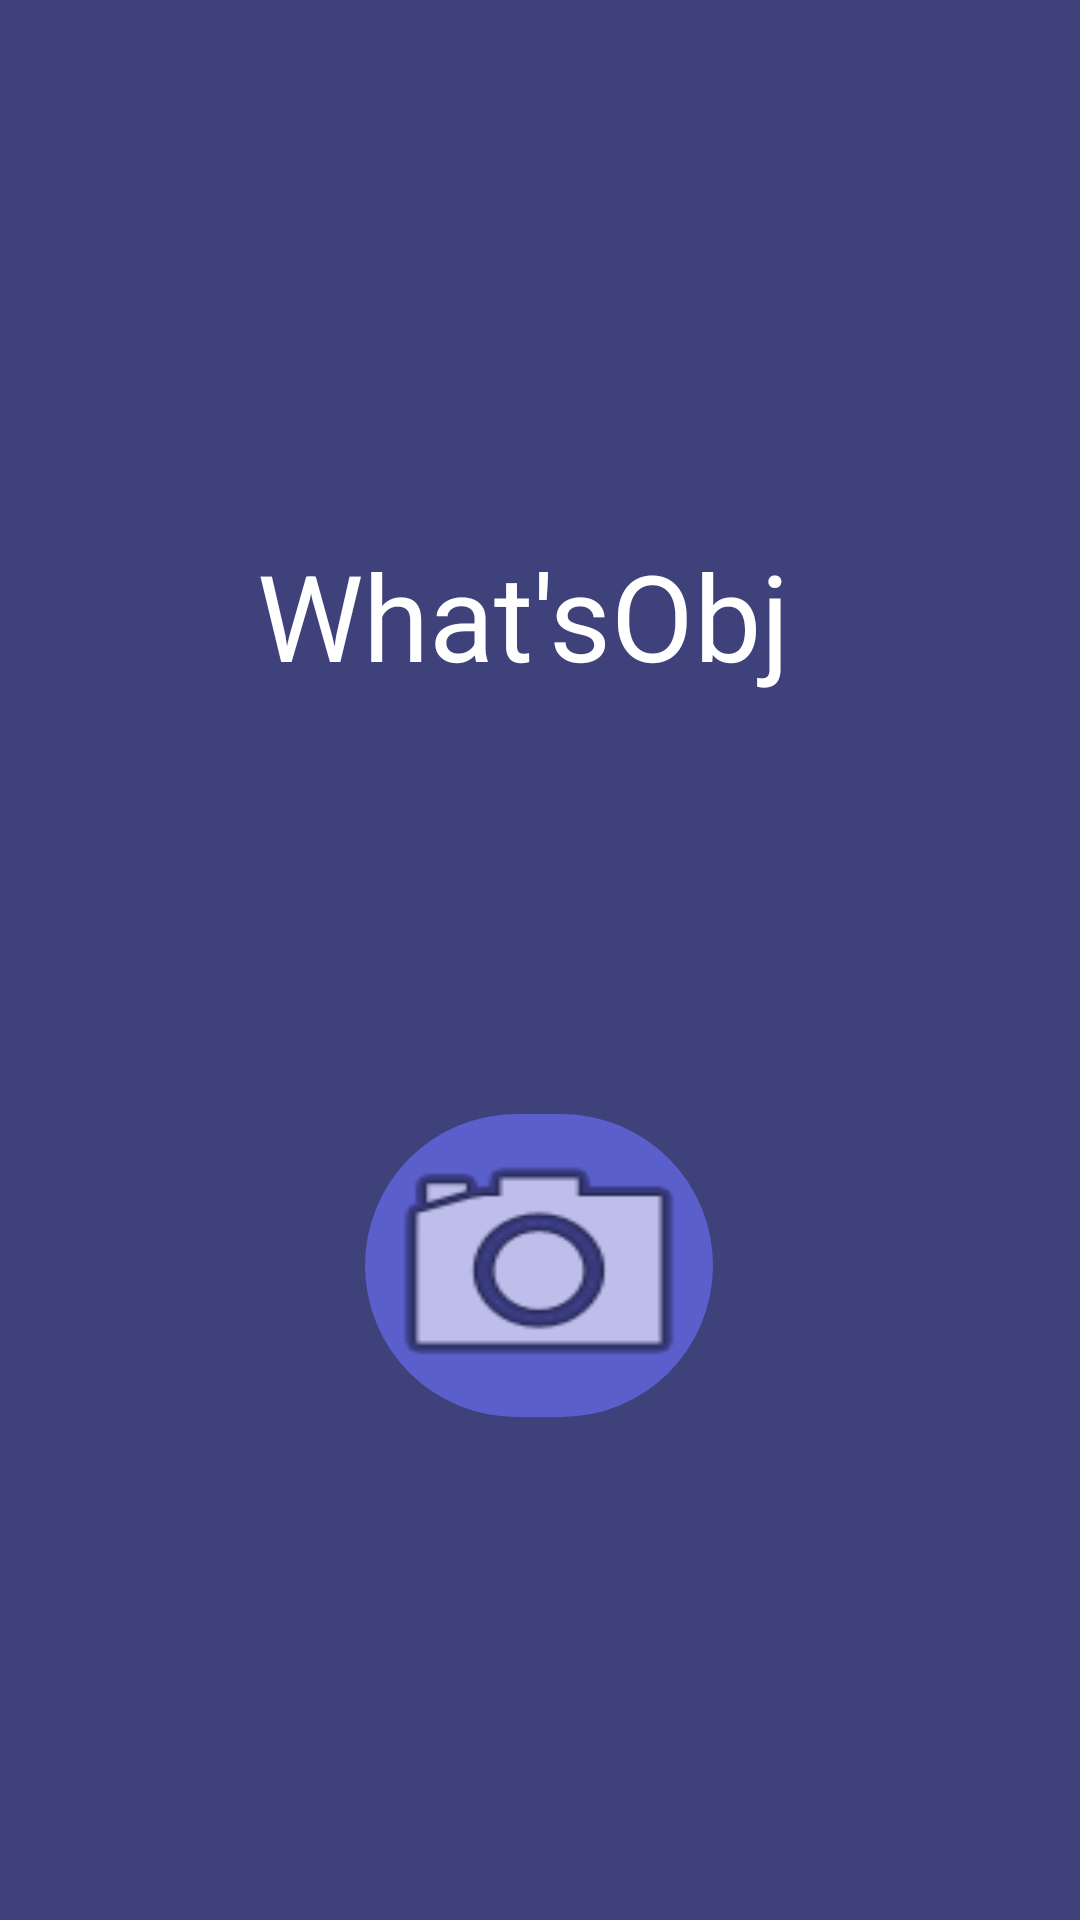

Icons on this 1080w x 1920h Android screen, each with the point to tap as (x=x, y=y):
camera: (x=539, y=1265)
